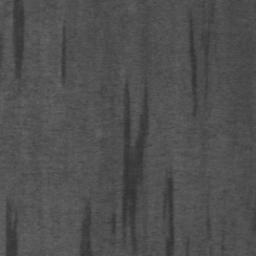Iron scale compression: (121, 76, 149, 256), (161, 158, 175, 256), (188, 9, 198, 117), (12, 0, 25, 82), (60, 0, 69, 88), (5, 202, 17, 256), (80, 202, 92, 256), (110, 203, 117, 237)
